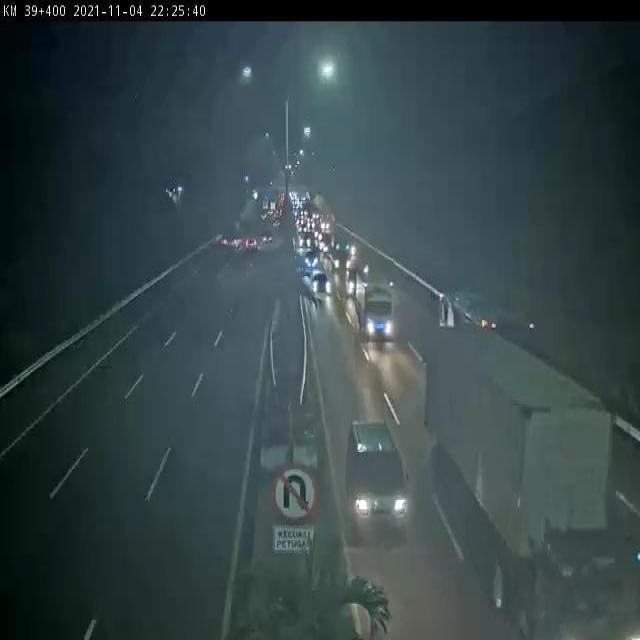Car: (345, 418, 410, 542), (310, 268, 332, 294), (302, 250, 318, 268), (244, 236, 258, 252), (297, 234, 312, 248), (262, 233, 274, 245), (298, 224, 308, 233)
Truck: (420, 324, 640, 640), (435, 288, 548, 378), (353, 272, 395, 340), (330, 230, 352, 258)
